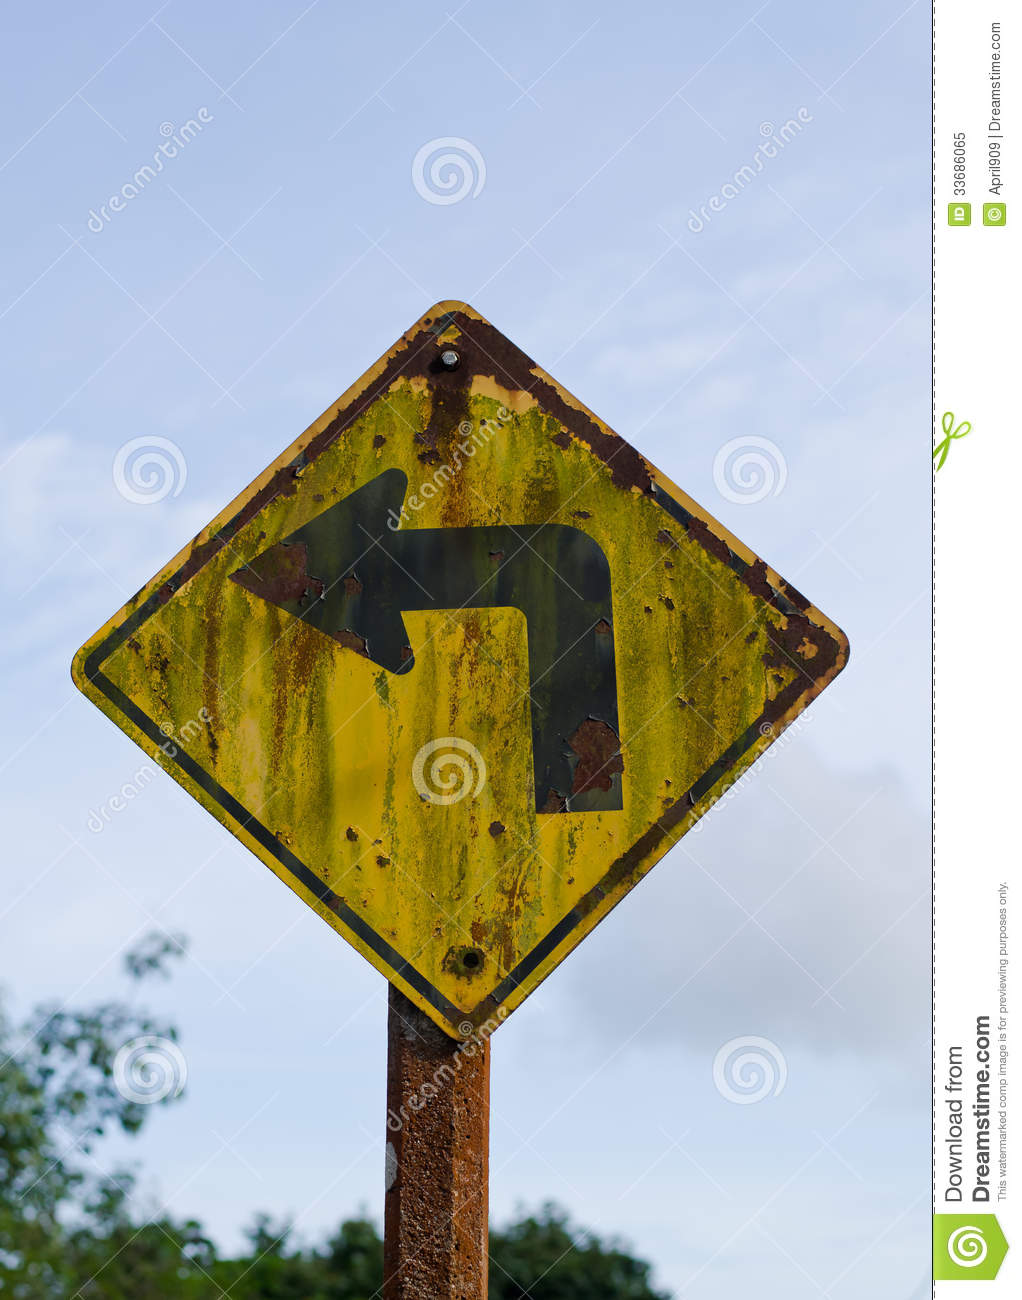left: (43, 295, 860, 1052)
